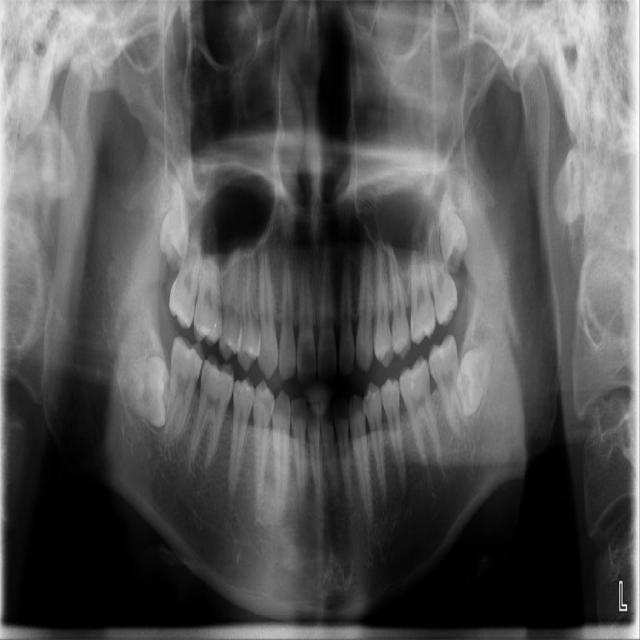3M ESPE Implant: (158, 176, 194, 272)
52: (388, 354, 438, 400), (418, 333, 466, 377), (190, 306, 224, 347), (411, 304, 437, 345), (218, 324, 243, 361), (237, 335, 261, 372), (233, 375, 256, 411)
73: (578, 548, 591, 587)
BioHorizons Implant: (418, 199, 463, 326)
BioLife Implant: (430, 189, 475, 273)
Biomet 3i Implant: (450, 333, 496, 420)
Blue Sky Bio Implant: (424, 333, 472, 442)
Caries: (166, 214, 205, 332)
Implant: (162, 335, 207, 445)
Keystone Dental Implant: (119, 352, 173, 430)
